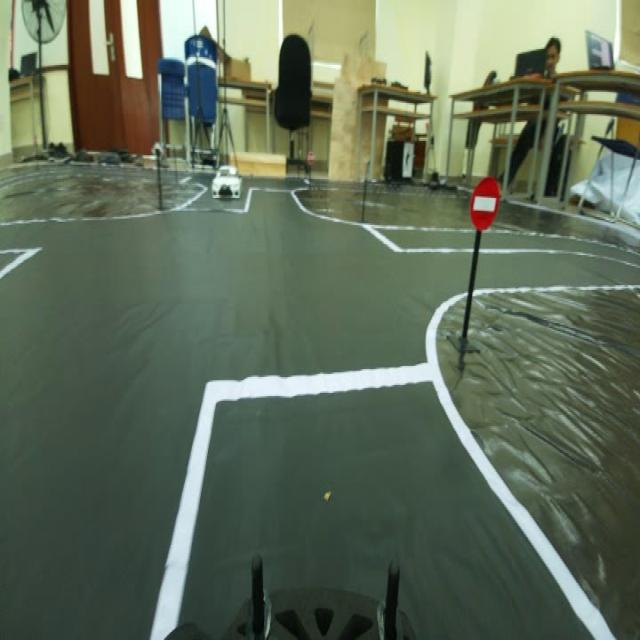car: (206, 161, 242, 205)
no_entry: (471, 174, 504, 234)
